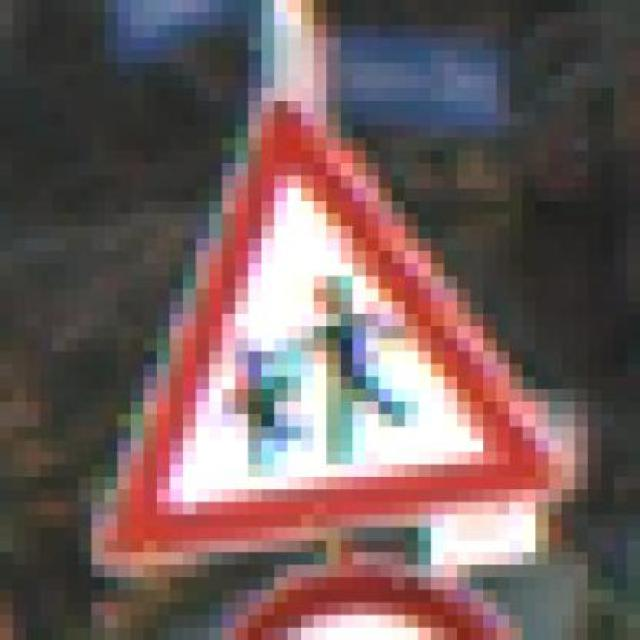Beware of children: (66, 88, 574, 552)
